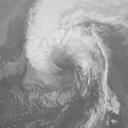cyclone: (26, 24, 99, 80)
